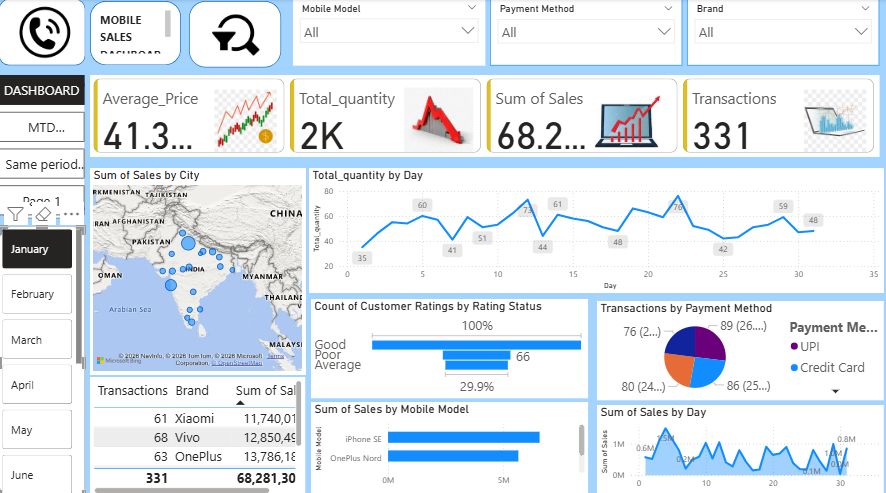

Layout of this report page (visuals, bound fields, positions):
{"tool":"powerbi","page":{"name":"DASHBOARD","canvas":[1280,720],"ordinal":0},"visuals":[{"type":"shape","box":[0,0,124.3,95.7],"z":0},{"type":"image","box":[0,0,131,95.7],"z":1000},{"type":"shape","box":[0,109.2,124.3,206.6],"z":2000},{"type":"shape","box":[0,327.6,124.3,393.1],"z":3000},{"type":"advancedSlicerVisual","fields":{"Values":["Query1.Column1.Variation.Date Hierarchy.Month"]},"box":[0,327.6,124.3,393.1],"z":4000},{"type":"cardVisual","fields":{"Data":["mobile_sales_data.Average_Price","mobile_sales_data.Total_quantity","Sum(mobile_sales_data.Sales)","mobile_sales_data.Transactions"]},"box":[131,109.2,1137.2,117.6],"z":5000},{"type":"slicer","fields":{"Values":["mobile_sales_data.Mobile Model"]},"box":[423.3,0,277.2,95.7],"z":6000},{"type":"slicer","fields":{"Values":["mobile_sales_data.Payment Method"]},"box":[707.2,0,277.2,95.7],"z":7000},{"type":"slicer","fields":{"Values":["mobile_sales_data.Brand"]},"box":[991.1,0,277.2,95.7],"z":8000},{"type":"shape","box":[273.8,3.4,132.7,95.7],"z":9000},{"type":"image","box":[241.9,16.8,198.2,68.9],"z":10000},{"type":"shape","box":[131,3.4,131,92.4],"z":11000},{"type":"textbox","box":[141.1,11.8,110.9,72.2],"z":12000},{"type":"map","fields":{"Category":["mobile_sales_data.City"],"Size":["Sum(mobile_sales_data.Sales)"]},"box":[131,243.4,309.6,296.6],"z":13000},{"type":"lineChart","fields":{"Category":["Query1.Column1.Variation.Date Hierarchy.Day"],"Y":["mobile_sales_data.Total_quantity"]},"box":[446.4,243.4,828,180],"z":14000},{"type":"funnel","fields":{"Y":["CountNonNull(mobile_sales_data.Customer Ratings)"],"Category":["mobile_sales_data.Rating Status"]},"box":[449.3,432,398.9,142.6],"z":15000},{"type":"pieChart","fields":{"Y":["mobile_sales_data.Transactions"],"Category":["mobile_sales_data.Payment Method"]},"box":[861.1,434.9,413.3,142.6],"z":16000},{"type":"clusteredBarChart","fields":{"Y":["Sum(mobile_sales_data.Sales)"],"Category":["mobile_sales_data.Mobile Model"]},"box":[449.3,580.3,398.9,131],"z":17000},{"type":"areaChart","fields":{"Category":["Query1.Column1.Variation.Date Hierarchy.Day"],"Y":["Sum(mobile_sales_data.Sales)"]},"box":[861.1,584.6,413.3,131],"z":18000},{"type":"tableEx","fields":{"Values":["mobile_sales_data.Transactions","mobile_sales_data.Brand","Sum(mobile_sales_data.Sales)"]},"box":[131,544.3,309.6,172.8],"z":19000},{"type":"pageNavigator","box":[0,109.4,123.8,205.9],"z":20000}]}

Visuals, with their boxes on the page's 1280x720 design canvas (x1, y1, x2, y2). These are canvas units, not pixel positions in the 886x493 screenshot, which may show the page scaled, cropped or inside an application window:
shape: detection(0, 0, 124, 96)
image: detection(0, 0, 131, 96)
shape: detection(0, 109, 124, 316)
shape: detection(0, 328, 124, 721)
advancedSlicerVisual - Query1.Column1.Variation.Date Hierarchy.Month: detection(0, 328, 124, 721)
cardVisual - mobile_sales_data.Average_Price x mobile_sales_data.Total_quantity: detection(131, 109, 1268, 227)
slicer - mobile_sales_data.Mobile Model: detection(423, 0, 700, 96)
slicer - mobile_sales_data.Payment Method: detection(707, 0, 984, 96)
slicer - mobile_sales_data.Brand: detection(991, 0, 1268, 96)
shape: detection(274, 3, 406, 99)
image: detection(242, 17, 440, 86)
shape: detection(131, 3, 262, 96)
textbox: detection(141, 12, 252, 84)
map - mobile_sales_data.City x Sum(mobile_sales_data.Sales): detection(131, 243, 441, 540)
lineChart - Query1.Column1.Variation.Date Hierarchy.Day x mobile_sales_data.Total_quantity: detection(446, 243, 1274, 423)
funnel - CountNonNull(mobile_sales_data.Customer Ratings) x mobile_sales_data.Rating Status: detection(449, 432, 848, 575)
pieChart - mobile_sales_data.Transactions x mobile_sales_data.Payment Method: detection(861, 435, 1274, 578)
clusteredBarChart - Sum(mobile_sales_data.Sales) x mobile_sales_data.Mobile Model: detection(449, 580, 848, 711)
areaChart - Query1.Column1.Variation.Date Hierarchy.Day x Sum(mobile_sales_data.Sales): detection(861, 585, 1274, 716)
tableEx - mobile_sales_data.Transactions x mobile_sales_data.Brand: detection(131, 544, 441, 717)
pageNavigator: detection(0, 109, 124, 315)
